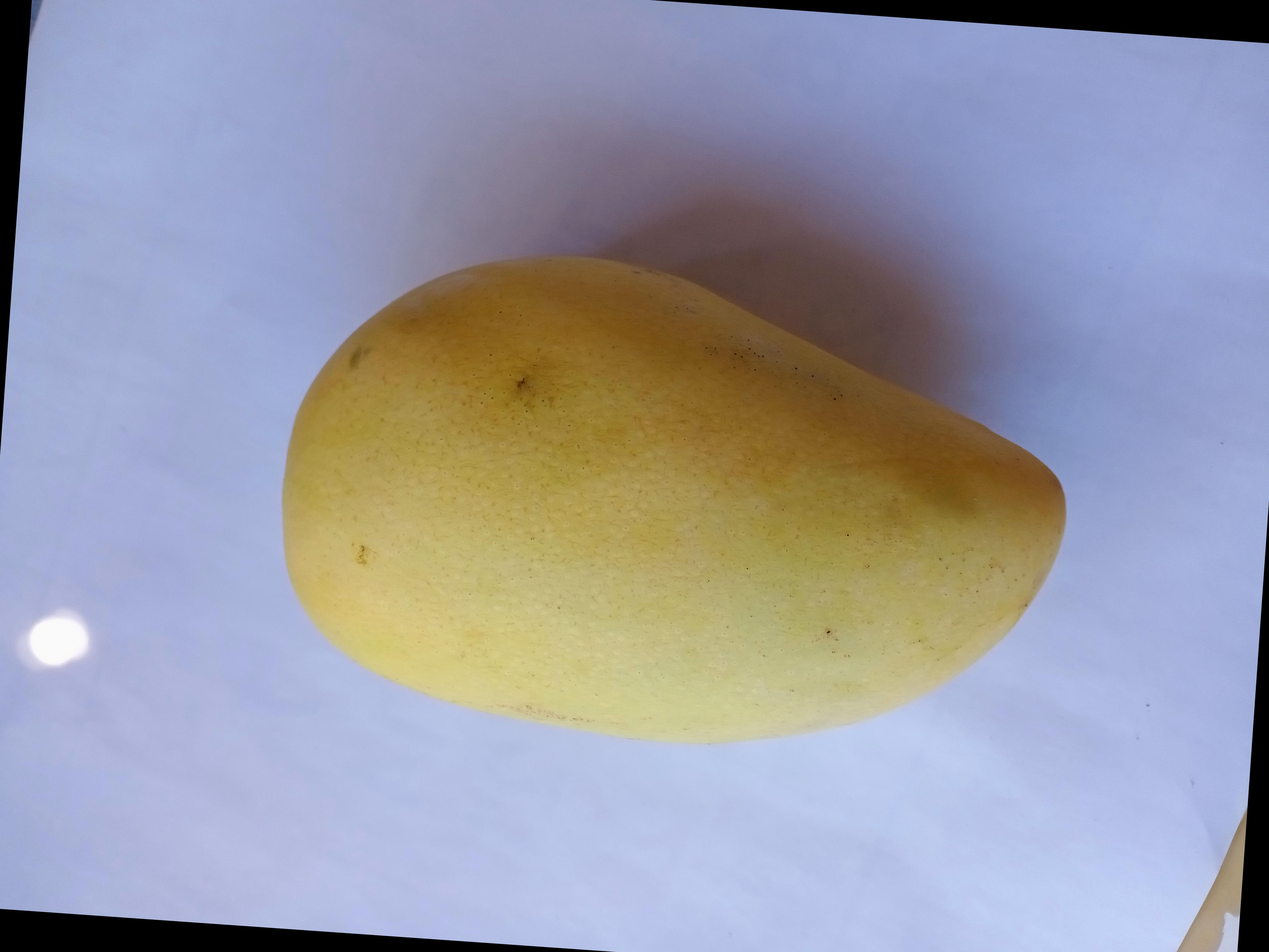Mango Ripe: (232, 132, 1165, 763)
